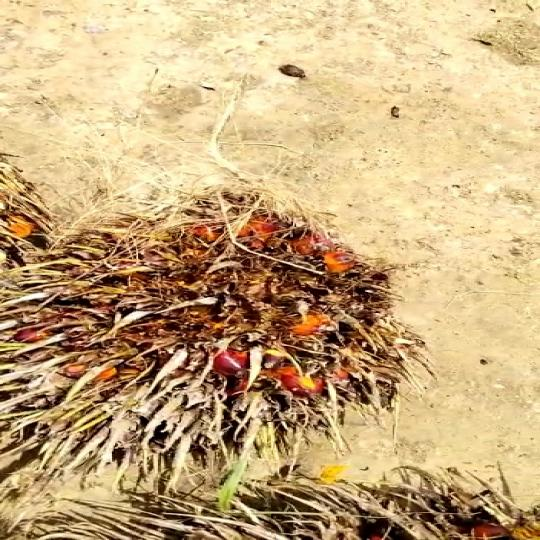terlalu masak: (0, 177, 412, 508)
